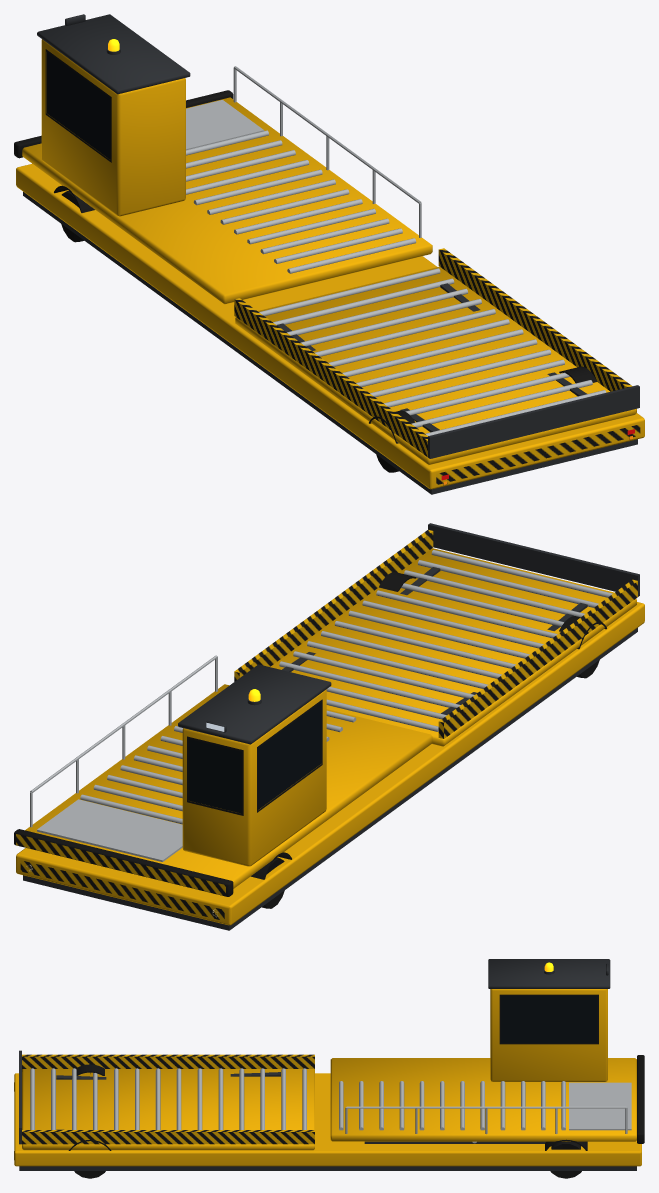
File: main_deck_loader.glb
3 views of the same model, one above another, from view 1: azimuth 30°, elevation 25°; view 2: azimuth 150°, elevation 25°; view 3: azimuth 270°, elevation 25° (orthographic). The views are drawn at different scales.
Visible parts, largest first — view 1: Lift, Body; view 2: Lift, Body; view 3: Lift, Body, Wheels.
Part boxes in pixels (x1,y1,x2,y2): Lift: (14, 14, 639, 464); Body: (16, 163, 644, 494); Lift: (14, 523, 639, 896); Body: (16, 572, 644, 930); Lift: (19, 959, 644, 1150); Body: (14, 1064, 641, 1170); Wheels: (74, 1073, 581, 1178).
Size of what is drawn, in the model's own units: 3.6 by 3.22 by 12.06.
Materials: 8 (2 with a texture image).
